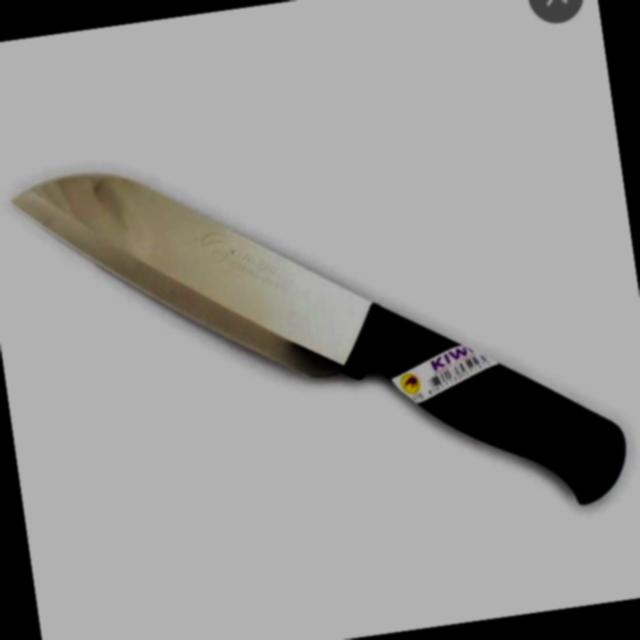knife: (5, 98, 637, 584)
